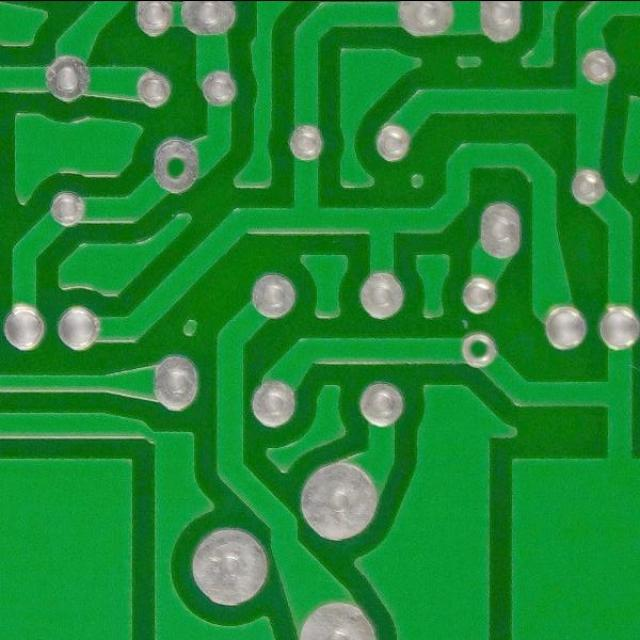Missing_Hole: (145, 136, 205, 198), (456, 329, 504, 371)
